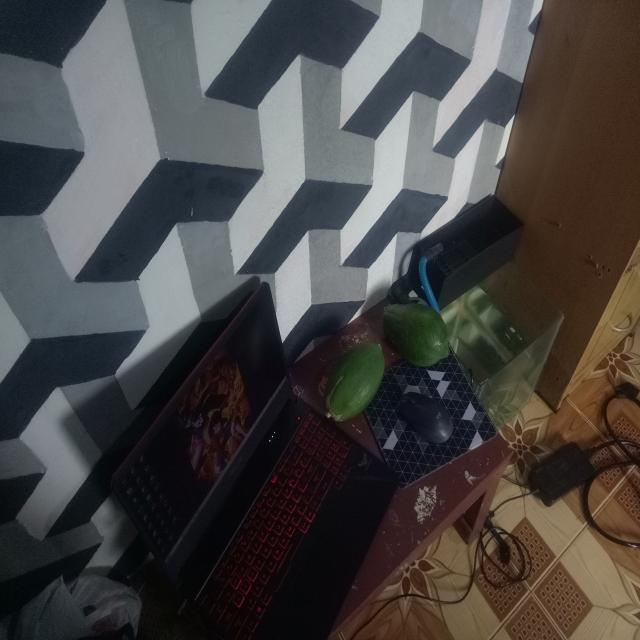Pepaya unrippen: (322, 349, 392, 426), (386, 308, 450, 373)
